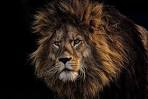lion: (33, 4, 144, 99)
